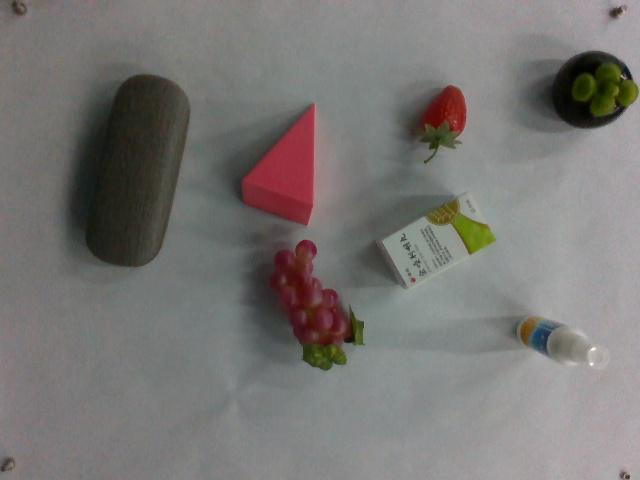carton: (377, 189, 496, 288)
detergent: (514, 311, 611, 376)
glassescase: (84, 71, 189, 269)
grape: (269, 239, 366, 369)
mangosteen: (555, 49, 637, 131)
pyramid: (241, 99, 321, 227)
strawberry: (415, 79, 469, 161)
